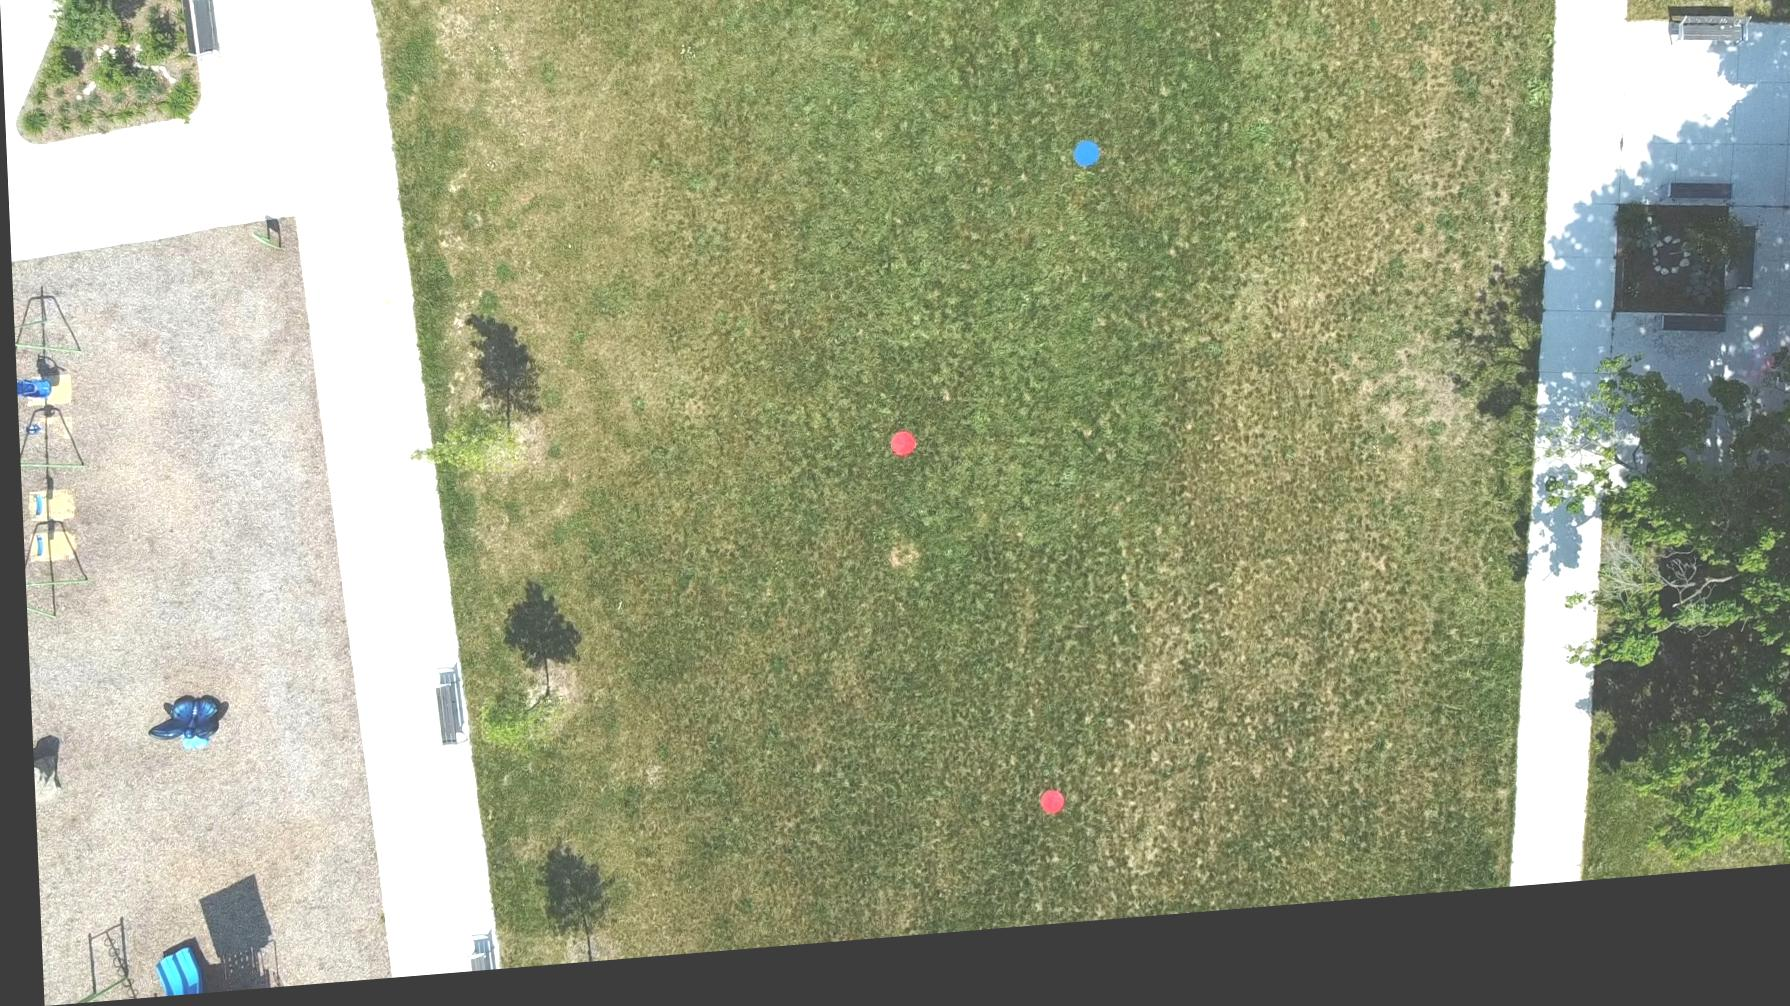Blue: (1070, 156, 1099, 187)
Red: (884, 445, 913, 475), (1030, 806, 1059, 833)
